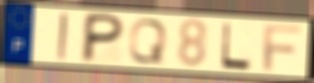8: (176, 17, 210, 71)
F: (262, 23, 304, 73)
I: (56, 11, 70, 62)
L: (218, 21, 254, 72)
P: (78, 11, 127, 64)
Q: (126, 18, 170, 66)
